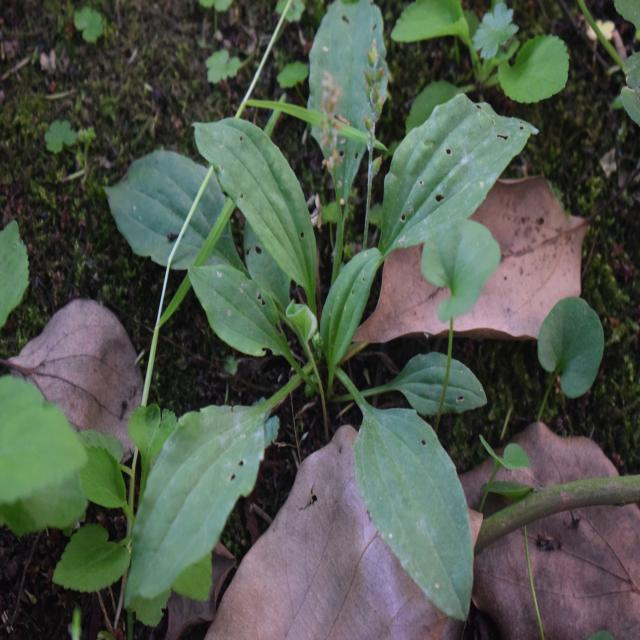plantain: (120, 44, 509, 561)
